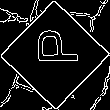P_W: (29, 36, 81, 74)
